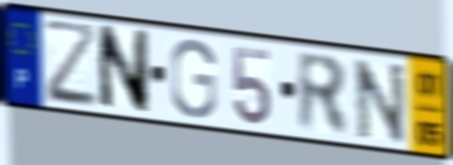5: (229, 42, 273, 127)
G: (168, 37, 219, 121)
N: (95, 22, 152, 117), (351, 57, 408, 147)
R: (294, 48, 352, 140)
Z: (40, 18, 101, 111)
